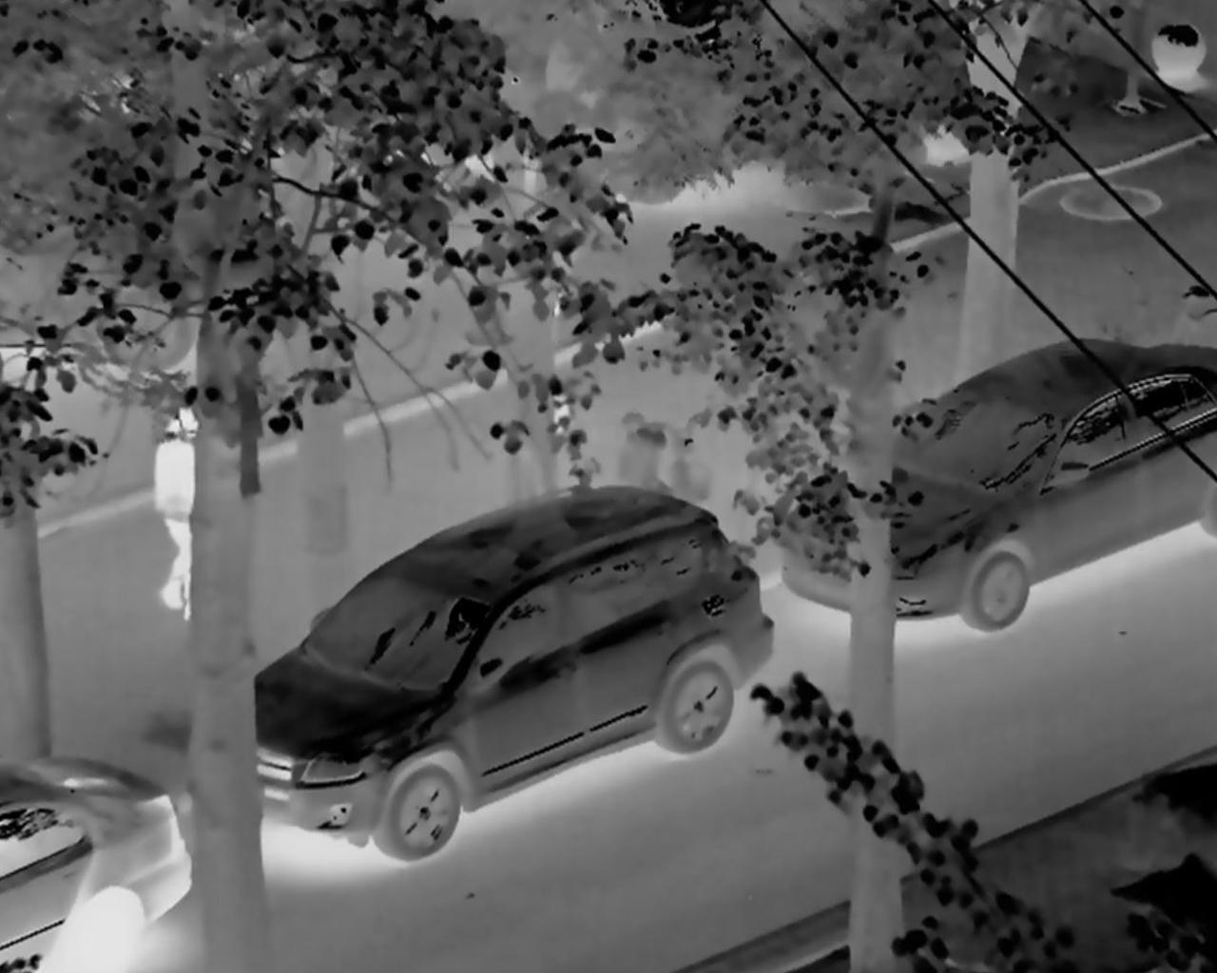person: (133, 355, 219, 630)
